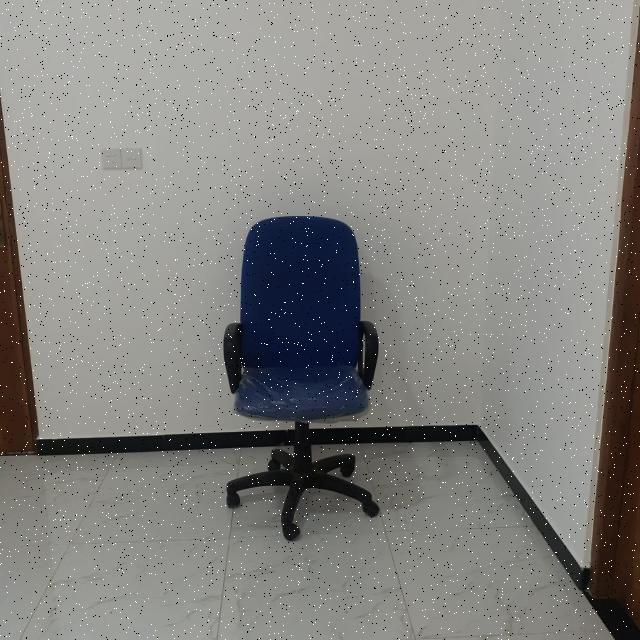bottle: (219, 214, 377, 540)
